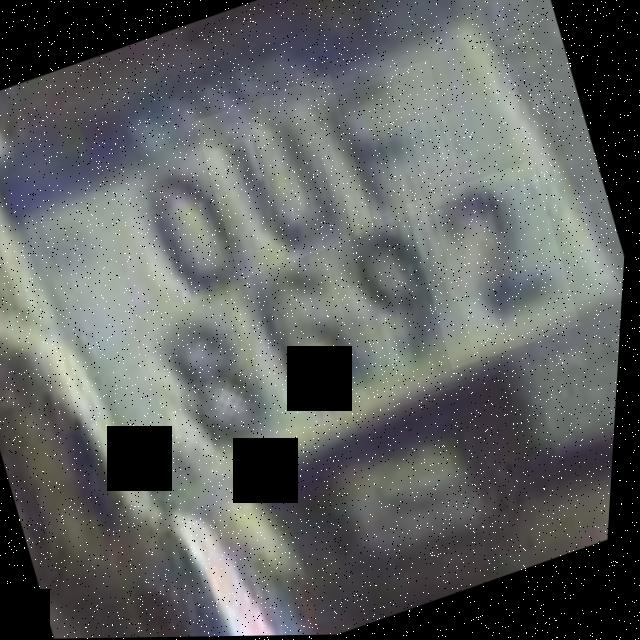2: (400, 161, 592, 372)
8: (125, 267, 301, 477)
9: (317, 201, 487, 398)
F: (310, 59, 475, 236)
G: (210, 224, 400, 438)
O: (111, 104, 299, 315)
U: (189, 74, 385, 280)
